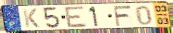0: (134, 5, 155, 26)
1: (88, 6, 100, 27)
5: (43, 7, 61, 29)
E: (63, 5, 89, 29)
F: (112, 5, 133, 27)
K: (22, 8, 41, 29)
